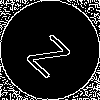Z: (25, 25, 79, 80)
